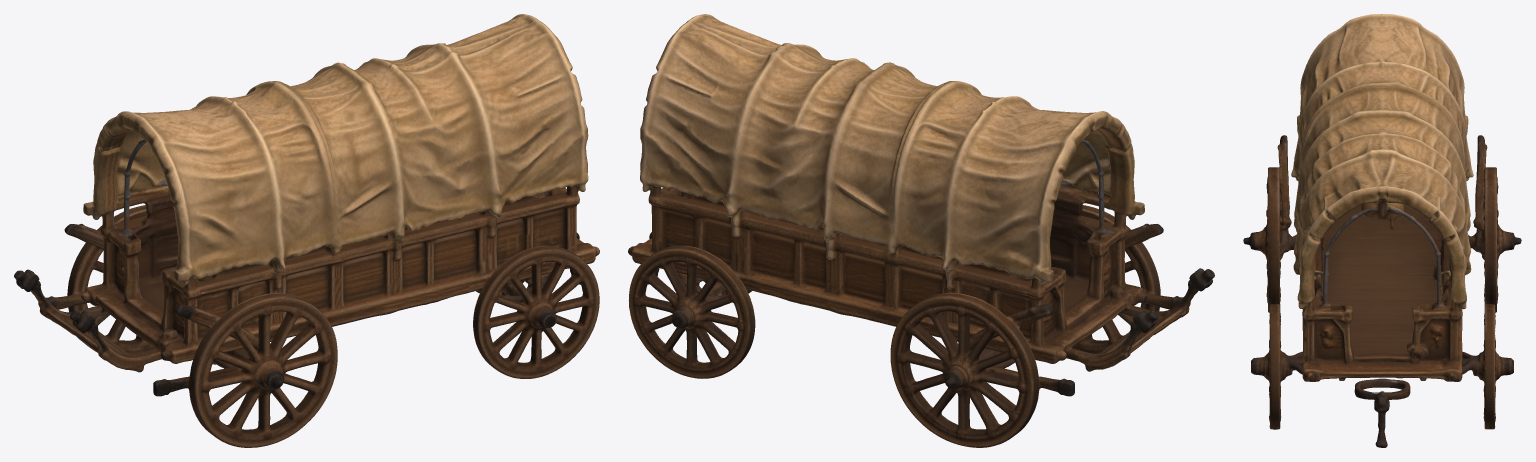
Rendered from Estrutura_md_8.glb.
3 views of the same model, side by side, from view 1: azimuth 30°, elevation 25°; view 2: azimuth 150°, elevation 25°; view 3: azimuth 270°, elevation 25° (orthographic). The views are drawn at different scales.
Bounding box in the file's own units: 1.9 × 0.9967 × 0.9481.
1 material, 1 textured.
